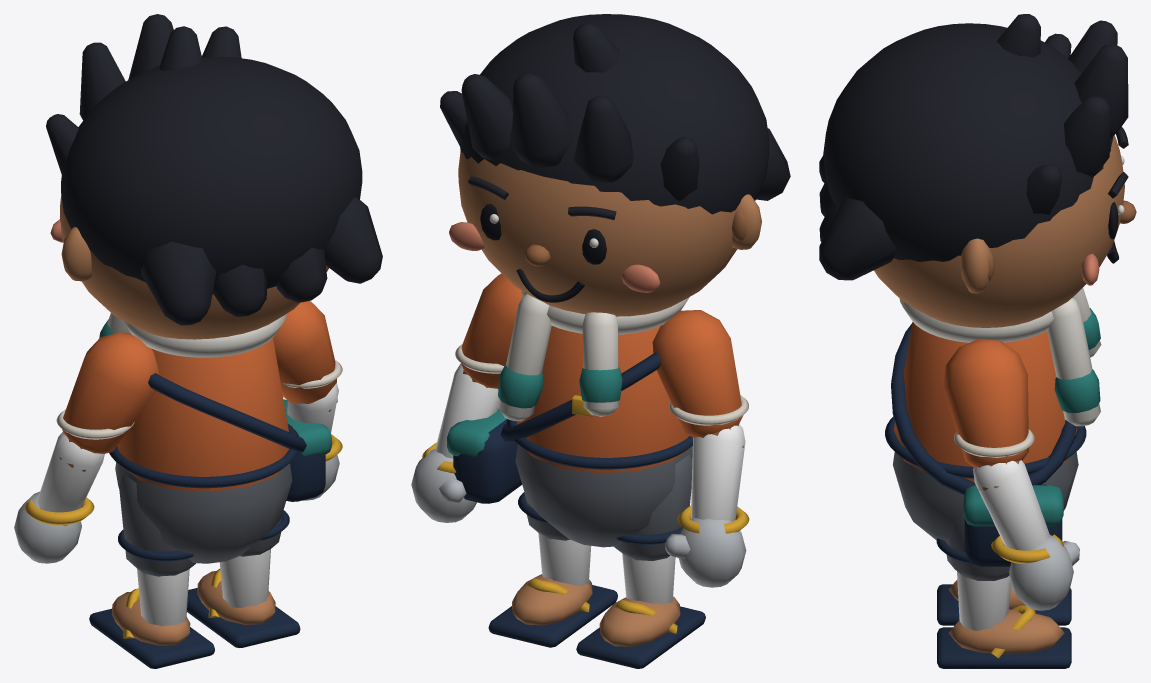
File: Pengepul.fbx
The picture shows the model from 3 angles, left to right: view 1: azimuth 30°, elevation 25°; view 2: azimuth 150°, elevation 25°; view 3: azimuth 270°, elevation 25°; orthographic projection. The views are drawn at different scales.
Parts seen in each view (by area): view 1: Bip01 Head, Bip01 Spine, Bip01, Bip01 L UpperArm, Bip01 R UpperArm, Bip01 L Foot, Bip01 R Foot, Bip01 L Thigh, Bip01 L Hand, Bip01 L Forearm, Bip01 L Calf, Bip01 R Calf (+3 smaller); view 2: Bip01 Head, Bip01 Spine, Bip01, Bip01 L UpperArm, Bip01 L Foot, Bip01 R Foot, Bip01 L Hand, Bip01 R UpperArm, Bip01 L Forearm, Bip01 R Hand, Bip01 L Thigh, Bip01 R Forearm (+3 smaller); view 3: Bip01 Head, Bip01 Spine, Bip01 R UpperArm, Bip01 R Foot, Bip01, Bip01 R Forearm, Bip01 R Hand, Bip01 R Calf, Bip01 L Foot, Bip01 R Thigh.
Boxes of the visible parts, bbox=[...] form: Bip01 Head: bbox=[46, 14, 382, 339]; Bip01 Spine: bbox=[99, 313, 331, 501]; Bip01: bbox=[109, 423, 299, 563]; Bip01 L UpperArm: bbox=[56, 332, 159, 471]; Bip01 R UpperArm: bbox=[273, 301, 342, 411]; Bip01 L Foot: bbox=[89, 588, 214, 668]; Bip01 R Foot: bbox=[187, 568, 300, 647]; Bip01 L Thigh: bbox=[118, 473, 195, 576]; Bip01 L Hand: bbox=[14, 491, 94, 563]; Bip01 L Forearm: bbox=[37, 432, 104, 526]; Bip01 L Calf: bbox=[137, 569, 189, 626]; Bip01 R Calf: bbox=[219, 549, 270, 607]; Bip01 Head: bbox=[440, 14, 790, 316]; Bip01 Spine: bbox=[447, 290, 691, 503]; Bip01: bbox=[506, 419, 692, 547]; Bip01 L UpperArm: bbox=[652, 310, 748, 447]; Bip01 L Foot: bbox=[576, 596, 705, 668]; Bip01 R Foot: bbox=[488, 574, 617, 647]; Bip01 L Hand: bbox=[665, 505, 749, 587]; Bip01 R UpperArm: bbox=[455, 273, 522, 388]; Bip01 L Forearm: bbox=[690, 424, 745, 521]; Bip01 R Hand: bbox=[411, 442, 476, 522]; Bip01 L Thigh: bbox=[614, 454, 692, 561]; Bip01 R Forearm: bbox=[435, 363, 498, 458]; Bip01 Head: bbox=[819, 14, 1136, 327]; Bip01 Spine: bbox=[891, 288, 1101, 566]; Bip01 R UpperArm: bbox=[943, 338, 1034, 490]; Bip01 R Foot: bbox=[937, 605, 1071, 668]; Bip01: bbox=[885, 416, 1086, 541]; Bip01 R Forearm: bbox=[973, 460, 1050, 550]; Bip01 R Hand: bbox=[991, 534, 1079, 610]; Bip01 R Calf: bbox=[957, 571, 1011, 630]; Bip01 L Foot: bbox=[937, 580, 1071, 625]; Bip01 R Thigh: bbox=[936, 513, 1009, 580].
Size of the model in its own units: 0.82 by 1.47 by 0.6831.
